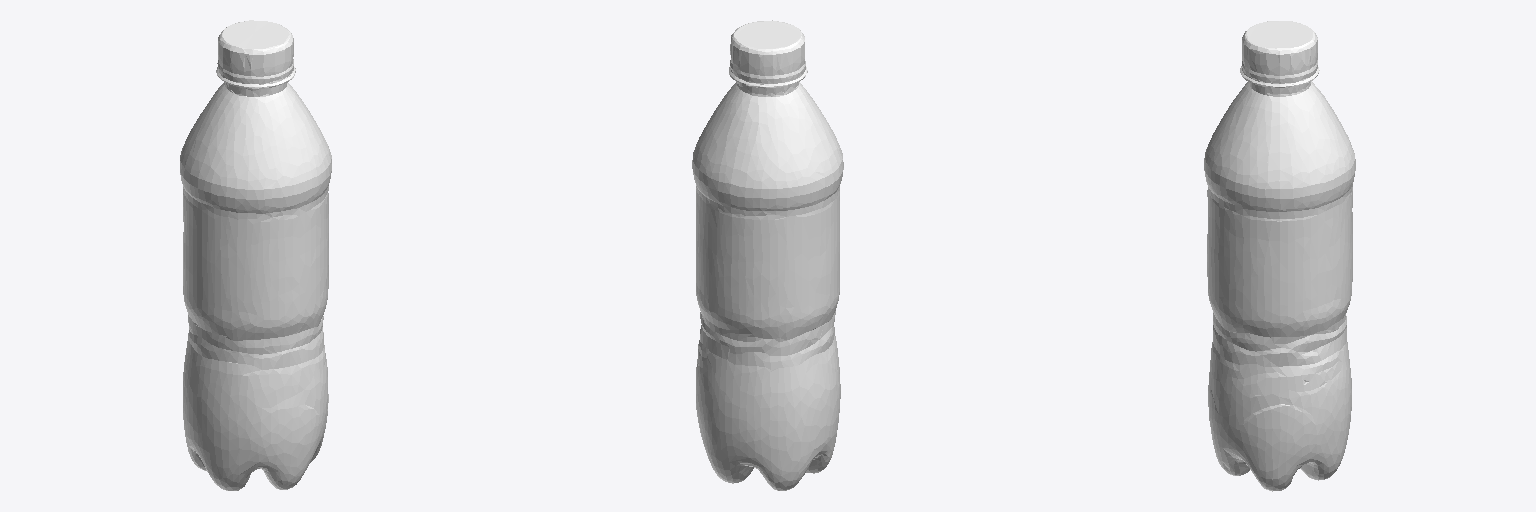
robot.urdf — garrafa:
<robot name="garrafa">
	<link name="_name">
		<visual>
			<origin xyz="0 0 0.0980" rpy="1.5708 0 0" />
			<geometry>
				<mesh filename="008_garrafa/garrafa.obj" scale="0.1959 0.1959 0.1959" />
			</geometry>
			<material name="texture">
				<color rgba="1.0 1.0 1.0 1.0" />
			</material>
		</visual>
		<collision>
			<geometry>
				<mesh filename="008_garrafa/garrafa.obj" scale="0.1959 0.1959 0.1959" />
			</geometry>
		<origin xyz="0 0 0.0980" rpy="1.5708 0 0" /></collision>
		<inertial>
			<mass value="1.0" />
			<inertia ixx="1.0" ixy="0.0" ixz="0.0" iyy="1.0" iyz="0.0" izz="1.0" />
		</inertial>
	</link>
</robot>

--- What the picture shows (computed from the rendered views, not written in the file) ---
The picture shows the robot from 3 angles, left to right: view 1: azimuth 30°, elevation 25°; view 2: azimuth 150°, elevation 25°; view 3: azimuth 270°, elevation 25°; orthographic projection.
Robot: garrafa — 1 links, 0 joints (none); root link _name; default pose: all joints at 0.
Visible links, largest first — view 1: _name; view 2: _name; view 3: _name.
Link boxes in pixels (<box>): _name: <box>180,20,331,490</box>; _name: <box>692,20,843,490</box>; _name: <box>1204,21,1355,491</box>.
Bounding box of the posed robot: 0.062 × 0.062 × 0.196 m (x, y, z).
1 mesh visuals loaded from 1 distinct referenced files (1 OBJ).
